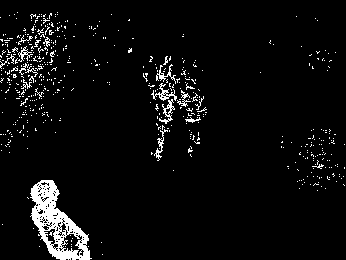person: (30, 177, 93, 260), (150, 77, 178, 164)
